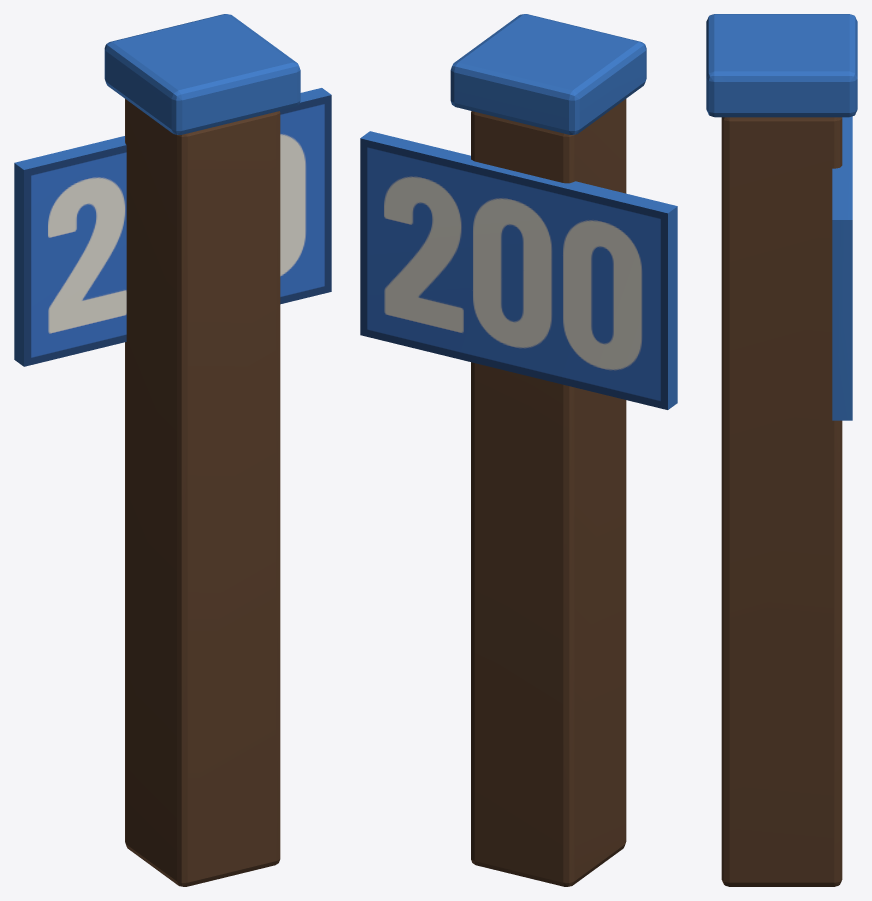
File: yardage_marker_200.glb
3 views of the same model, side by side, from view 1: azimuth 30°, elevation 25°; view 2: azimuth 150°, elevation 25°; view 3: azimuth 270°, elevation 25° (orthographic). The views are drawn at different scales.
Visible parts, largest first — view 1: Post, Plate, Cap; view 2: Post, Plate, Cap; view 3: Post, Cap, Plate.
Boxes of the visible parts, x1=… form: Post: x1=125, y1=99, x2=280, y2=886; Plate: x1=14, y1=88, x2=331, y2=366; Cap: x1=104, y1=14, x2=300, y2=134; Post: x1=471, y1=99, x2=626, y2=886; Plate: x1=360, y1=131, x2=677, y2=409; Cap: x1=450, y1=14, x2=646, y2=134; Post: x1=721, y1=117, x2=842, y2=886; Cap: x1=706, y1=14, x2=857, y2=117; Plate: x1=832, y1=116, x2=852, y2=420.
Bounding box in the file's own units: 0.36 × 0.9 × 0.15.
Materials: 2 (2 with a texture image).
